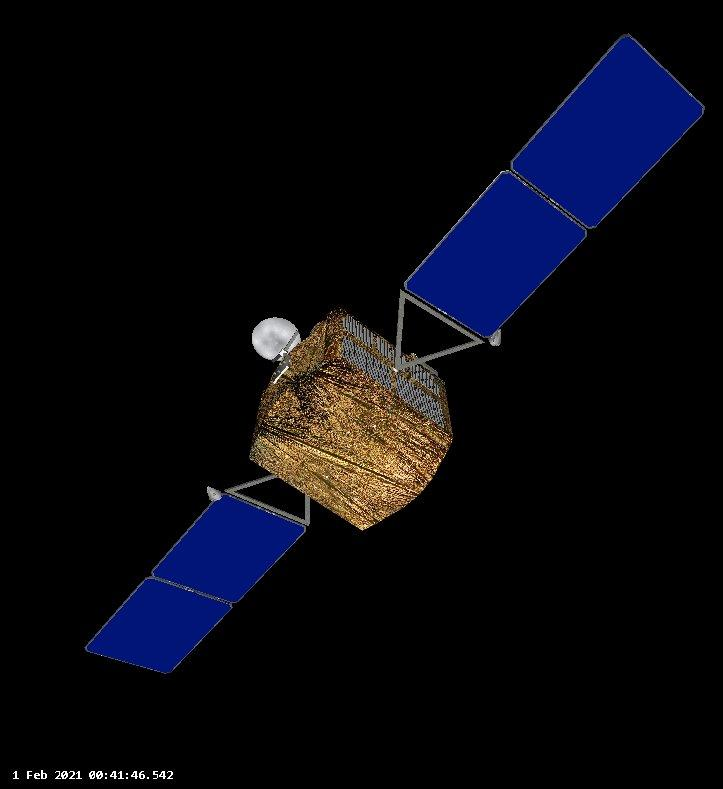antenna: (249, 314, 303, 363)
body: (246, 305, 456, 533)
solar: (401, 30, 709, 345), (81, 490, 309, 677)
thruster: (204, 485, 226, 504), (486, 329, 505, 348)
